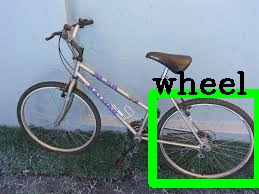wheel: (152, 93, 258, 183)
